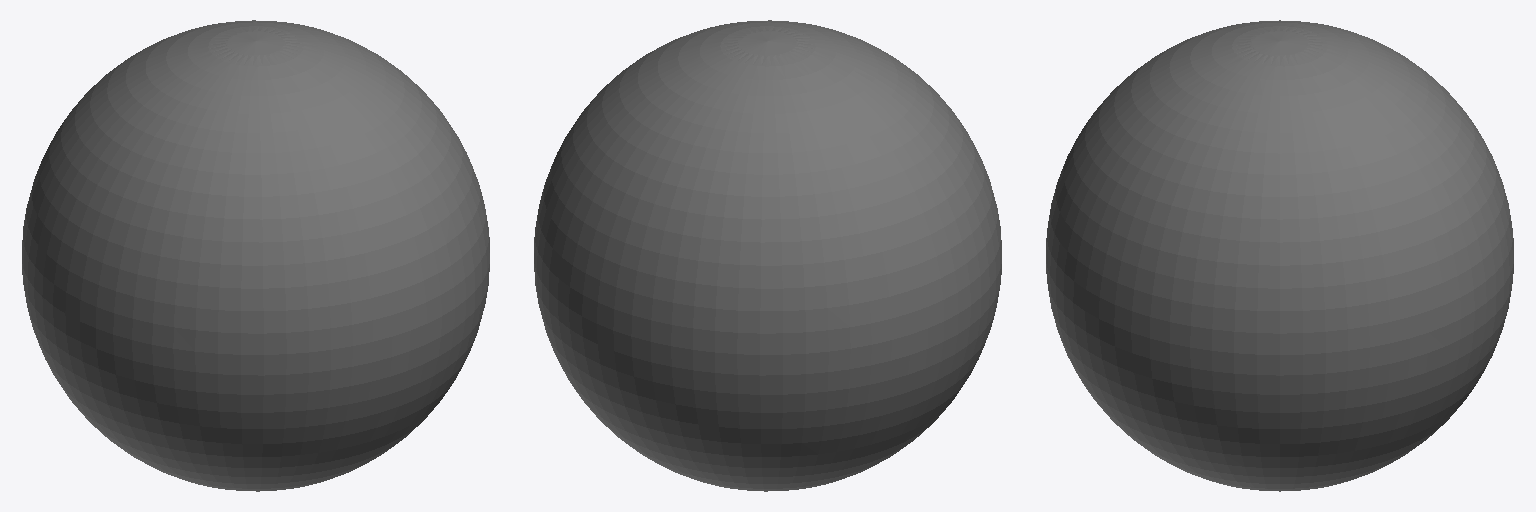
URDF robot description (1_ball):
<?xml version="1.0"?>
<robot name="1_ball">
  <link name="base">
    <visual>
      <geometry>
        <mesh filename="1_ball.obj" scale="1 1 1"/>
      </geometry>
      <material name="gray">
        <color rgba="0.5 0.5 0.5 1.0"/>
      </material>
    </visual>
    <collision>
      <geometry>
        <mesh filename="1_ball.obj" scale="1 1 1"/>
      </geometry>
    </collision>
    <inertial>
      <mass value="1.000"/>
      <inertia
          ixx="0.001040" ixy="0.000000" ixz="0.000000"
          iyy="0.001040" iyz="0.000000"
          izz="0.001029"/>
      <origin xyz="-0.156947 -0.001430 0.833091" rpy="0 0 0"/>
    </inertial>
  </link>
</robot>

--- What the picture shows (computed from the rendered views, not written in the file) ---
Views: 3 orthographic renders of the robot side by side, from view 1: azimuth 30°, elevation 25°; view 2: azimuth 150°, elevation 25°; view 3: azimuth 270°, elevation 25°.
Robot: 1_ball — 1 links, 0 joints (none); root link base; default pose: every joint at zero.
Links seen in each view (by area): view 1: base; view 2: base; view 3: base.
Link boxes in pixels (x1,y1,x2,y2): base: [22, 20, 489, 491]; base: [534, 20, 1001, 491]; base: [1046, 20, 1513, 491].
Bounding box of the posed robot: 0.0786 × 0.0786 × 0.0794 m (x, y, z).
Meshes: 1 distinct files referenced, 1 mesh visuals loaded (1 OBJ).
